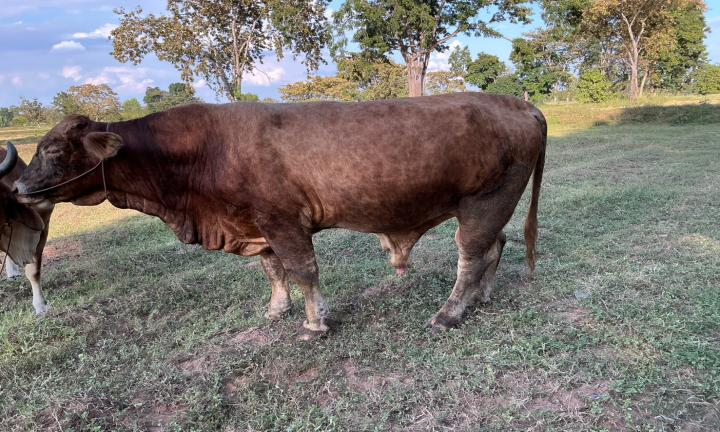Charolais: (15, 92, 546, 338)
